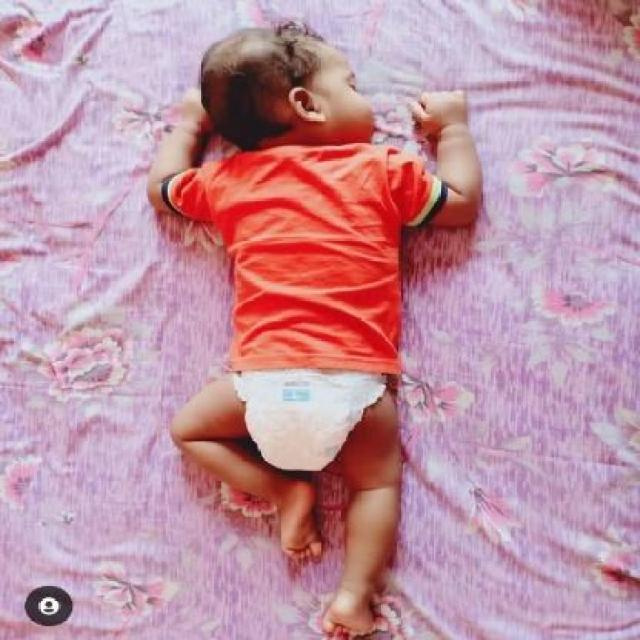baby: (146, 21, 485, 638)
